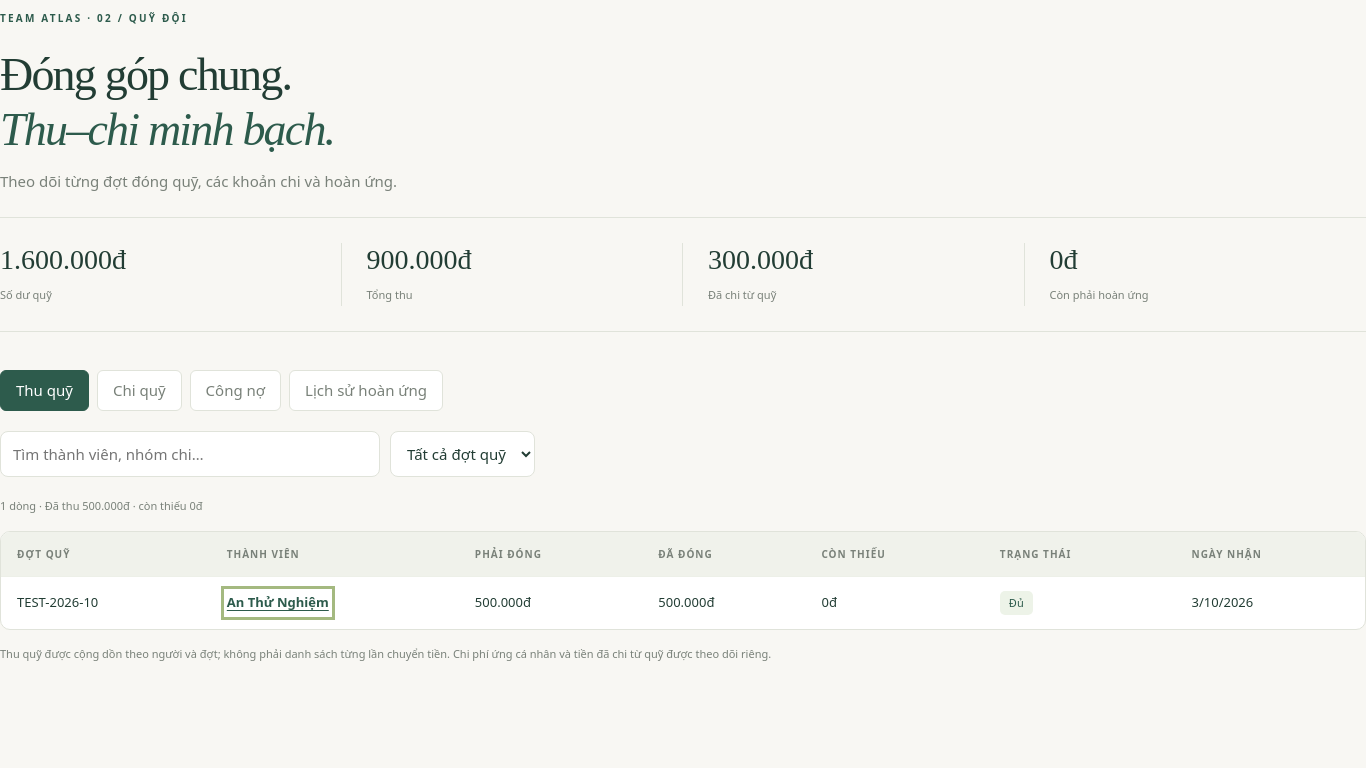
Test: FinancePage › returns focus to the member button after the dialog closes
Step 1. Click the button "An Thử Nghiệm" → (278, 603), box [227,592,329,614]
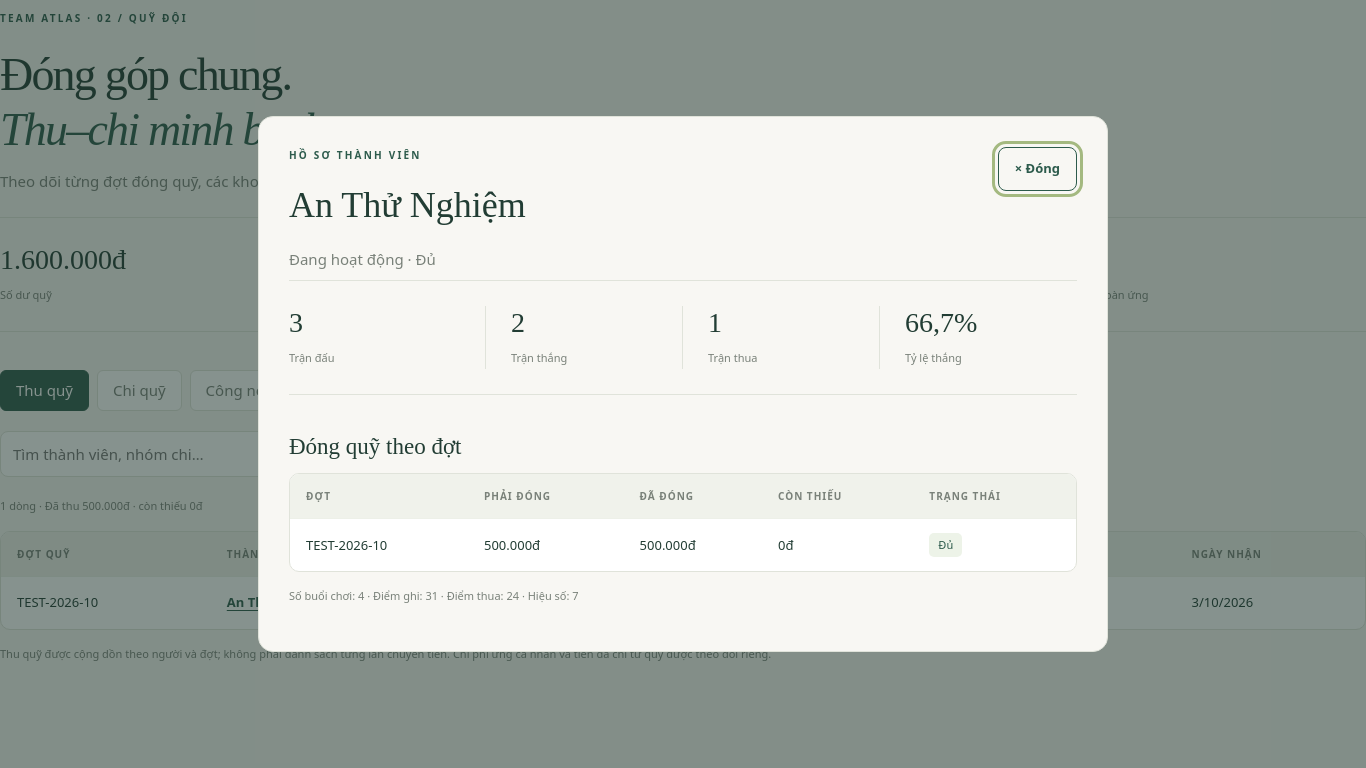
Step 2. Click the button with aria-label "Đóng hồ sơ" → (1037, 169), box [998,147,1077,191]
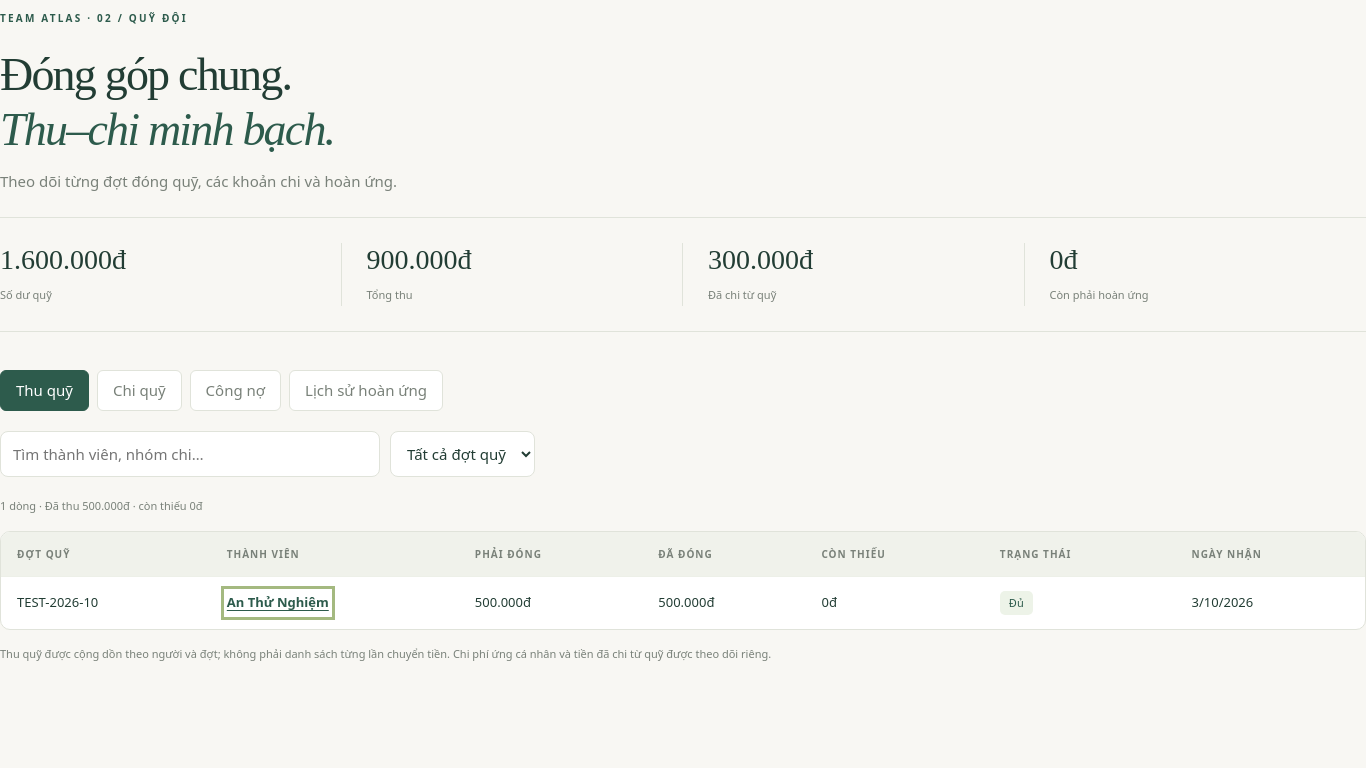
Check: the dialog is gone
